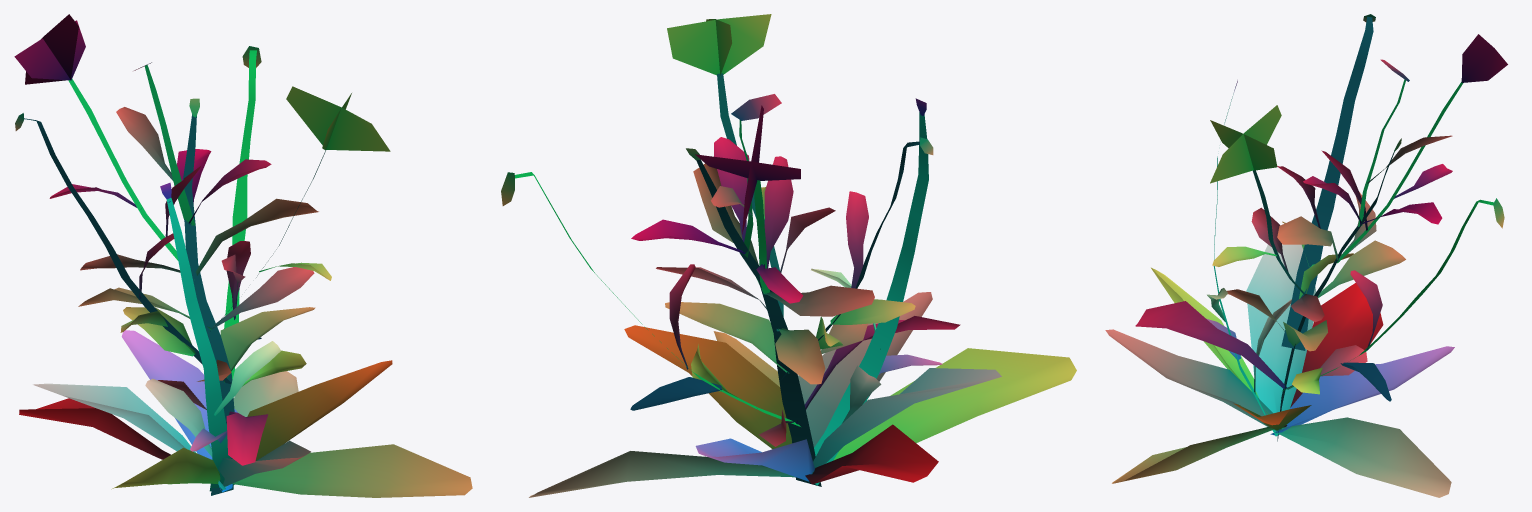
File: Field_Poppy_vmcobd0ja_Low_vmcobd0ja_VarB_LOD1.fbx
3 renders of one model, left to right at view 1: azimuth 30°, elevation 25°; view 2: azimuth 150°, elevation 25°; view 3: azimuth 270°, elevation 25°, orthographic. The views are drawn at different scales.
Visible parts, largest first — view 1: _rzx0_VarB_LOD3; view 2: _rzx0_VarB_LOD3; view 3: _rzx0_VarB_LOD3.
Part boxes in pixels (left/top/right/bottom): _rzx0_VarB_LOD3: left=14, top=14, right=472, bottom=497; _rzx0_VarB_LOD3: left=501, top=14, right=1076, bottom=497; _rzx0_VarB_LOD3: left=1105, top=14, right=1507, bottom=497.
Bounding box in the file's own units: 41.75 × 48.34 × 45.87.
